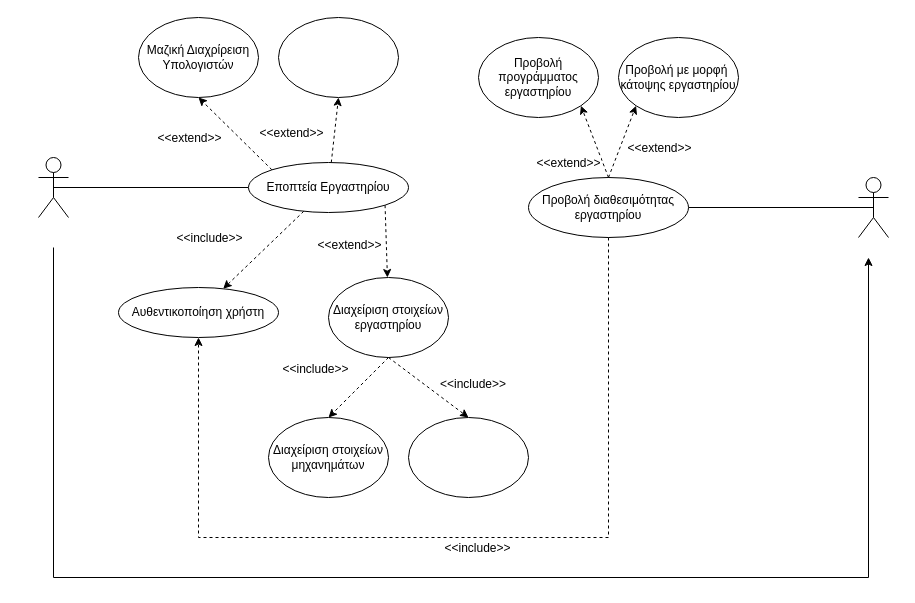
Image size: 915x603. Some labels were removed from this diagram. The centre of each missing label's shape, as x and y in pixels:
Διαχείριση templates: (x=468, y=457)
Διαχεριριστής: (x=53, y=187)
Προβολή λεπτομερούς κατάστασης: (x=338, y=57)
Φοιτητής: (x=873, y=207)
